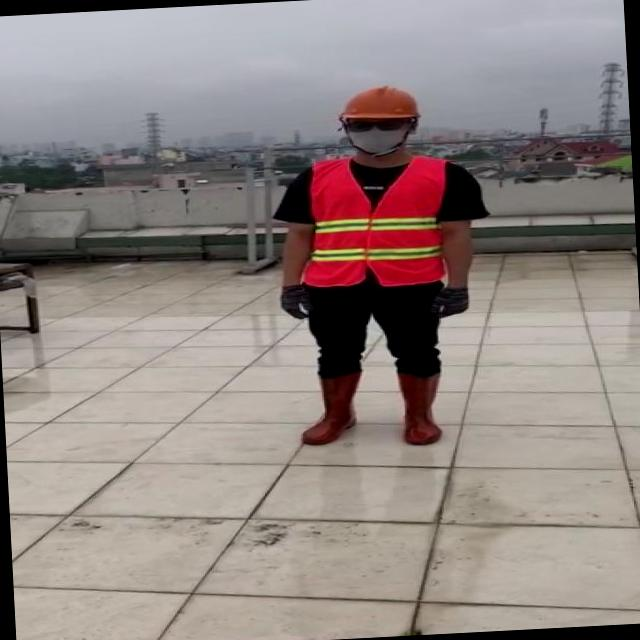boots: (292, 372, 364, 447), (398, 372, 448, 446)
helmet: (338, 82, 424, 124)
vest: (296, 151, 454, 292)
